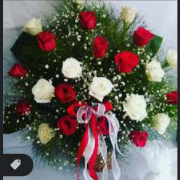RedRose: (31, 28, 58, 54), (50, 80, 81, 102), (130, 23, 153, 52), (51, 116, 80, 139), (113, 52, 139, 77), (137, 128, 160, 146), (92, 37, 110, 57), (8, 68, 33, 82), (79, 11, 96, 29), (161, 92, 180, 106), (14, 100, 35, 111)
